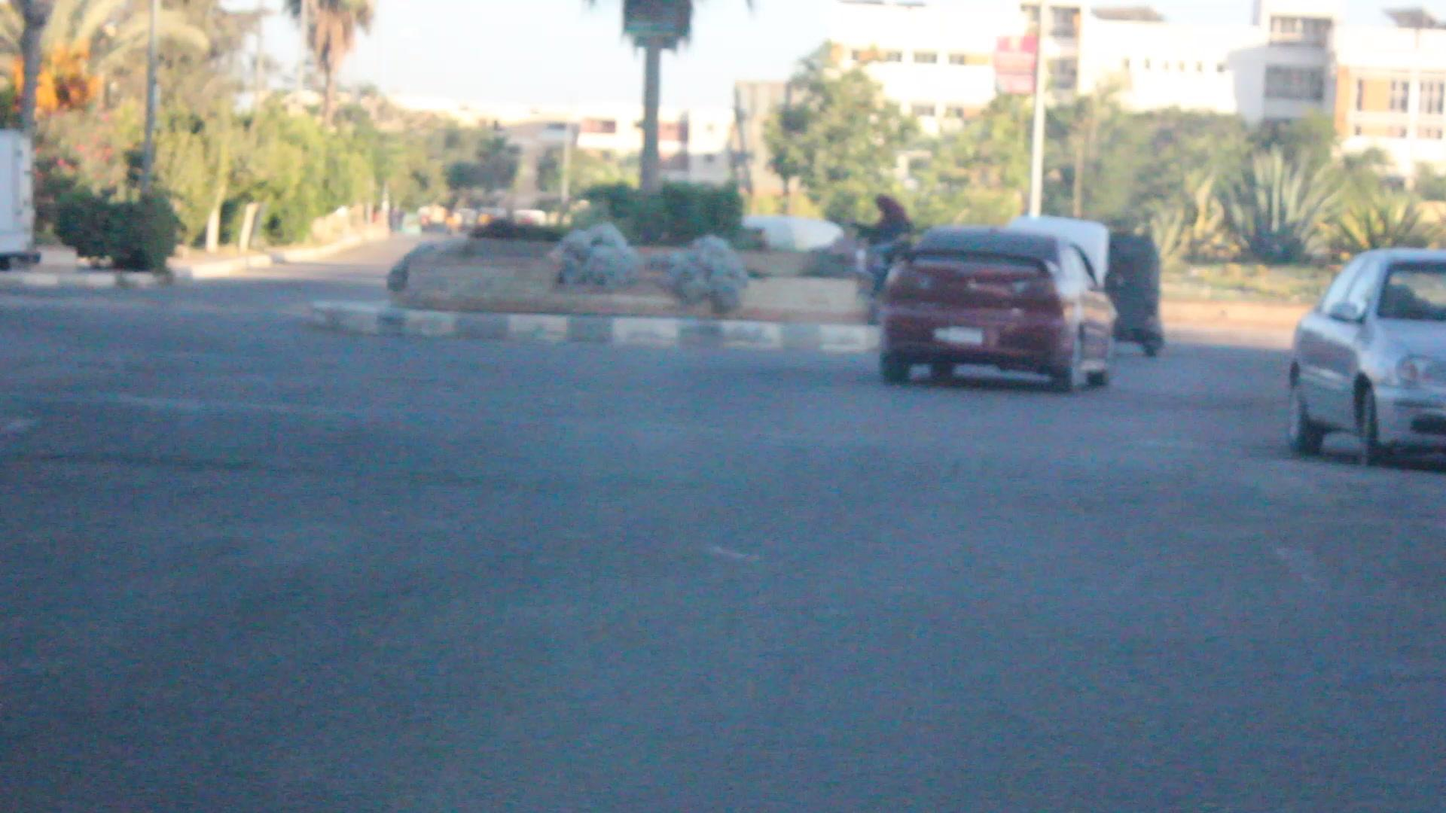Bump: (1, 393, 1445, 535)
